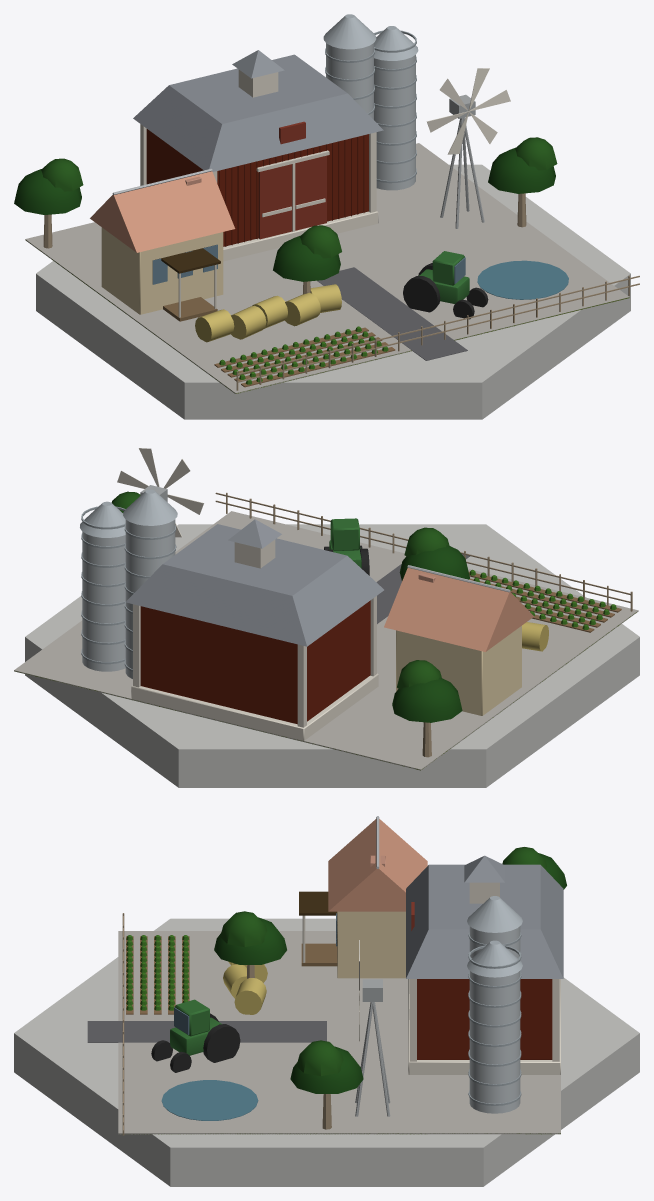
Rendered from farm.glb.
3 views of the same model, one above another, from view 1: azimuth 30°, elevation 25°; view 2: azimuth 150°, elevation 25°; view 3: azimuth 270°, elevation 25° (orthographic). The views are drawn at different scales.
Visible parts, largest first — view 1: wall_concrete, gravel, roof_slate, paint, wood, leaf, cladding, roof_tile, plaster, asphalt, glass, earth (+3 smaller); view 2: wall_concrete, wood, gravel, roof_slate, cladding, roof_tile, leaf, paint, plaster, stone, earth, asphalt; view 3: gravel, wall_concrete, roof_slate, cladding, wood, leaf, paint, roof_tile, plaster, asphalt, glass, dark (+2 smaller).
Boxes of the visible parts, <box> form: wall_concrete: <box>36,164,630,419</box>; gravel: <box>25,143,629,393</box>; roof_slate: <box>133,50,383,171</box>; paint: <box>140,68,510,342</box>; wood: <box>43,129,639,390</box>; leaf: <box>14,137,557,384</box>; cladding: <box>323,14,418,190</box>; roof_tile: <box>90,171,235,252</box>; plaster: <box>101,227,223,314</box>; asphalt: <box>317,267,467,360</box>; glass: <box>152,244,568,299</box>; earth: <box>214,327,395,387</box>; wall_concrete: <box>25,524,639,787</box>; wood: <box>140,492,632,757</box>; gravel: <box>14,511,638,770</box>; roof_slate: <box>126,519,383,646</box>; cladding: <box>80,489,177,678</box>; roof_tile: <box>384,568,533,651</box>; leaf: <box>111,491,616,722</box>; paint: <box>117,448,548,727</box>; plaster: <box>396,626,521,715</box>; stone: <box>131,673,378,740</box>; earth: <box>468,571,621,632</box>; asphalt: <box>376,554,469,623</box>; gravel: <box>118,931,560,1134</box>; wall_concrete: <box>14,918,639,1186</box>; roof_slate: <box>406,855,563,978</box>; cladding: <box>467,896,522,1113</box>; wood: <box>122,891,552,1135</box>; leaf: <box>126,847,566,1093</box>; paint: <box>170,882,559,1116</box>; roof_tile: <box>328,819,427,911</box>; plaster: <box>337,911,405,978</box>; asphalt: <box>87,1021,326,1042</box>; glass: <box>161,913,336,1120</box>; dark: <box>151,913,337,1072</box>.
Size of the model in its own units: 21.3 by 9.7 by 24.6.
